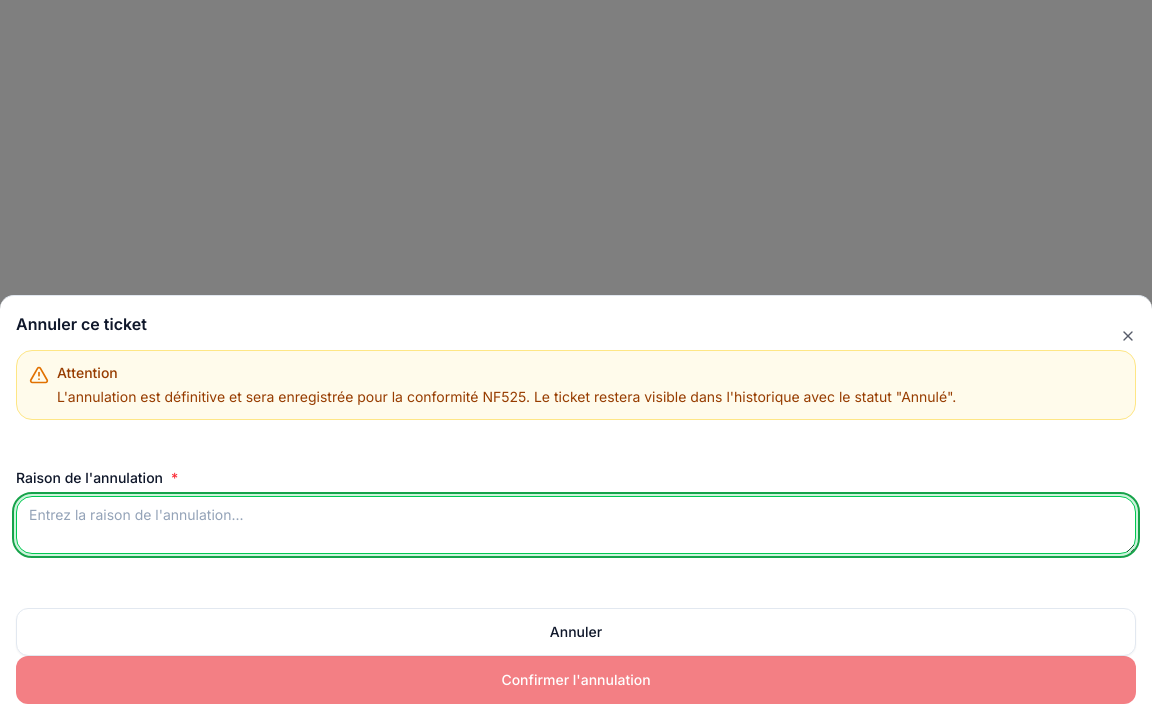
CancellationDialog › Error Handling › displays error message when cancellation fails
This screenshot has width=1152, height=720.
Type "Test cancellation" into the text box with placeholder "Entrez la raison de l'annulation..." at x=576, y=525, box [16, 496, 1136, 554]
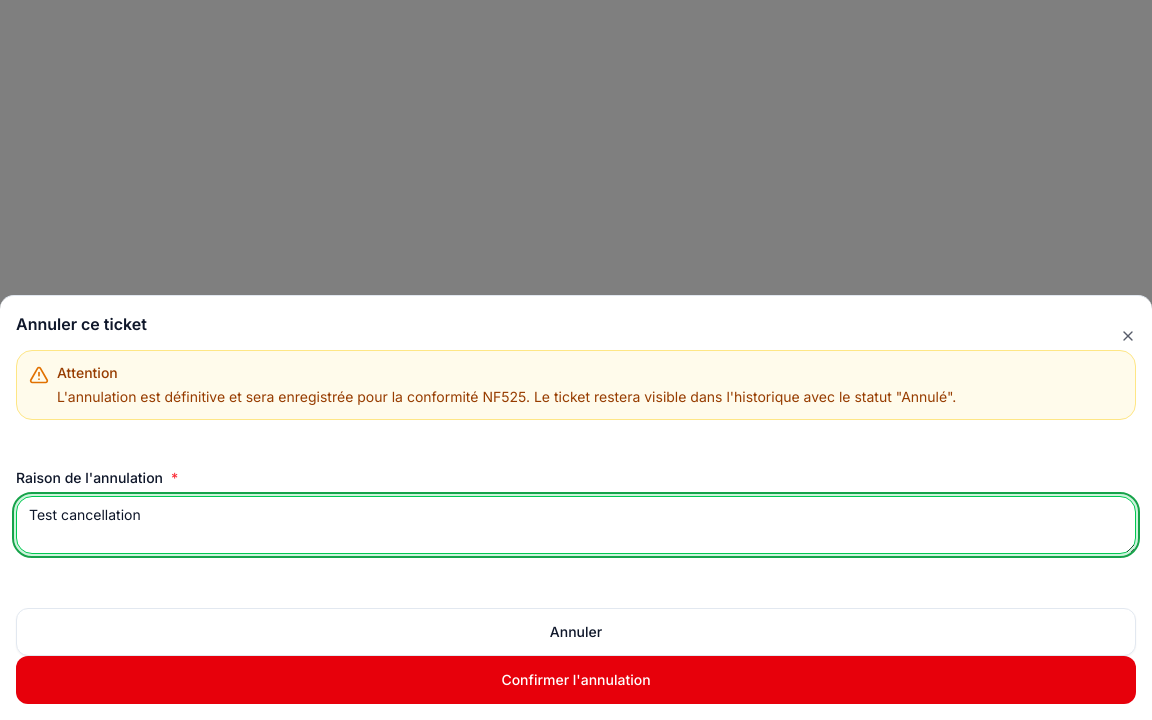
Click the button "Confirmer l'annulation" at x=576, y=680, box [16, 656, 1136, 704]
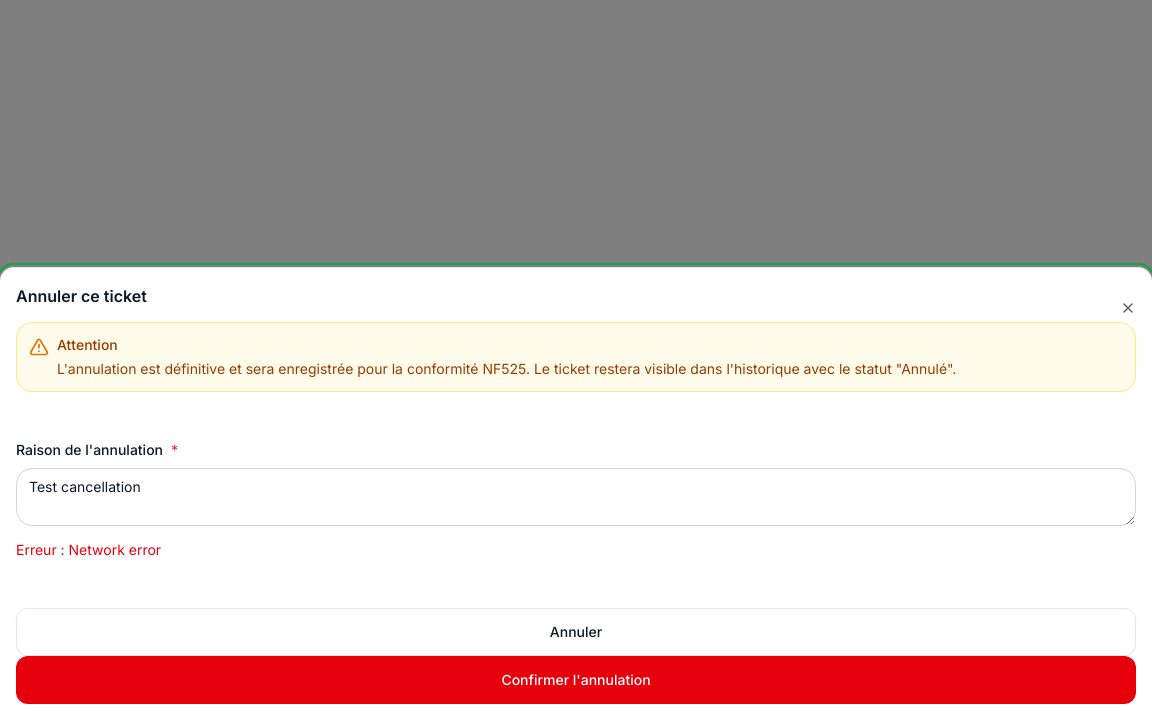
Expected: the message shows "Network error", [69, 541, 161, 558]
